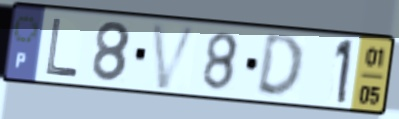1: (331, 37, 357, 108)
8: (89, 19, 132, 84), (200, 29, 242, 94)
D: (253, 33, 306, 102)
L: (44, 15, 81, 80)
V: (149, 21, 201, 92)
